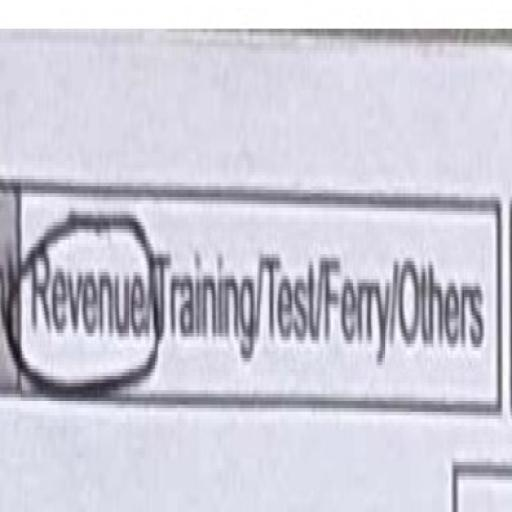check: (24, 113, 150, 438)
